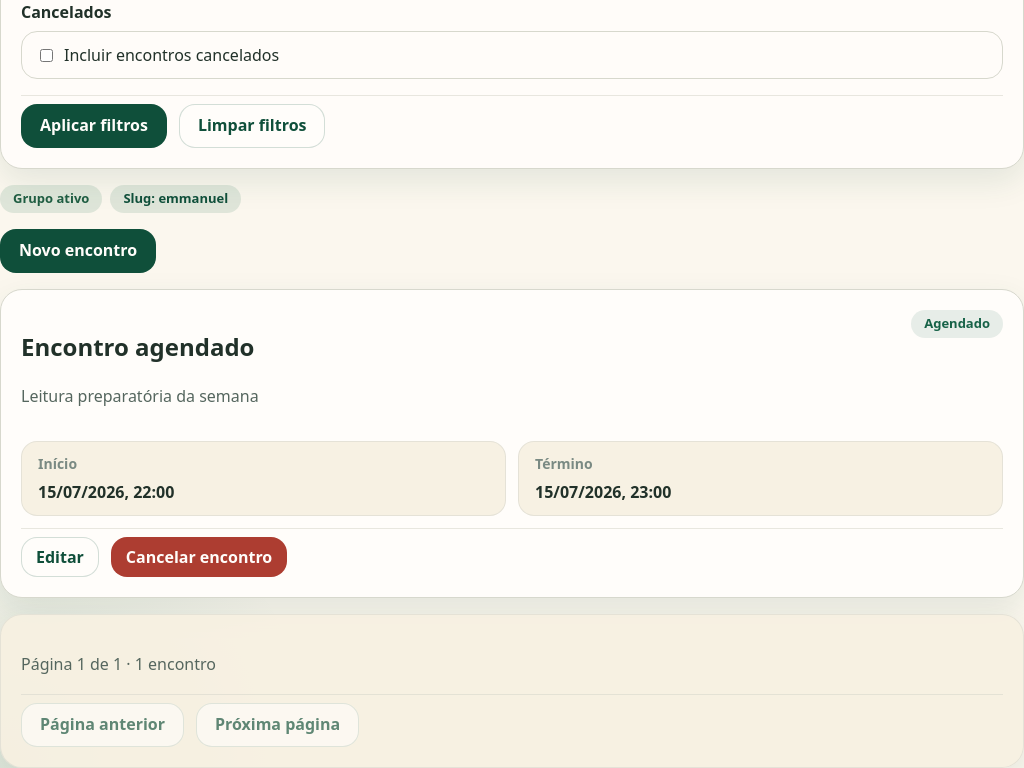
AdminGroupsPage dialog accessibility › dialog de edição restaura foco ao cancelar
(page scrolled)
Expected: the heading "Encontro agendado" is shown, [21,330,259,363]
Click the button "Editar".
click(60, 557)  # box [21,537,99,577]
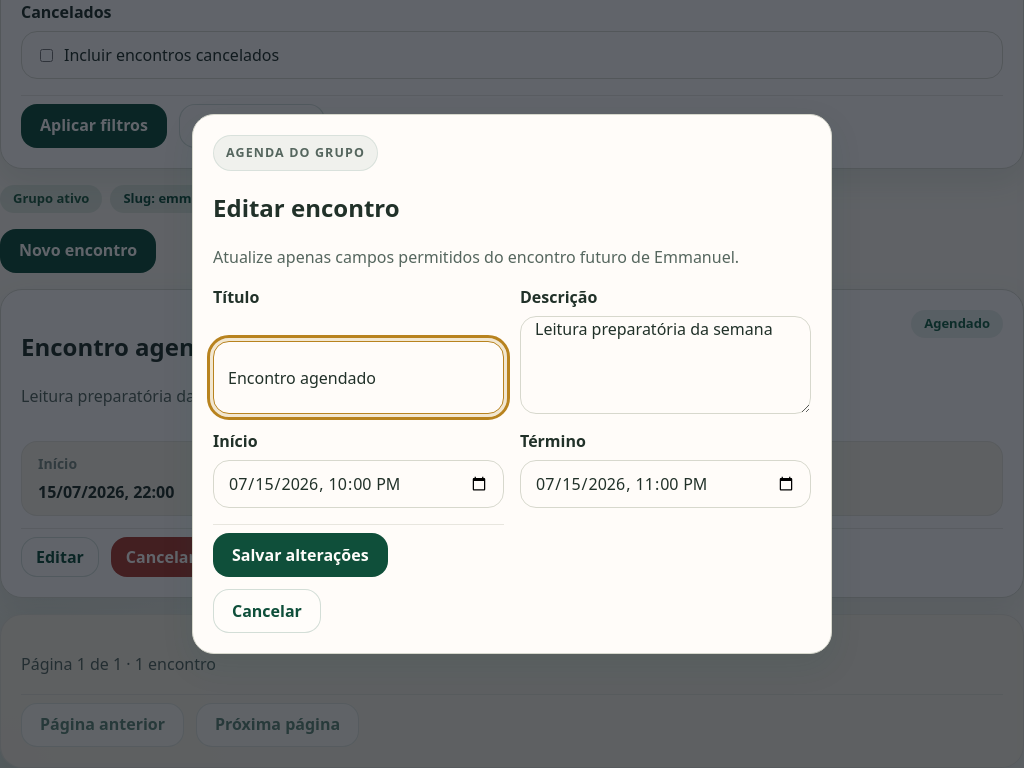
Click the button "Cancelar".
click(267, 611)  # box [213,589,321,633]
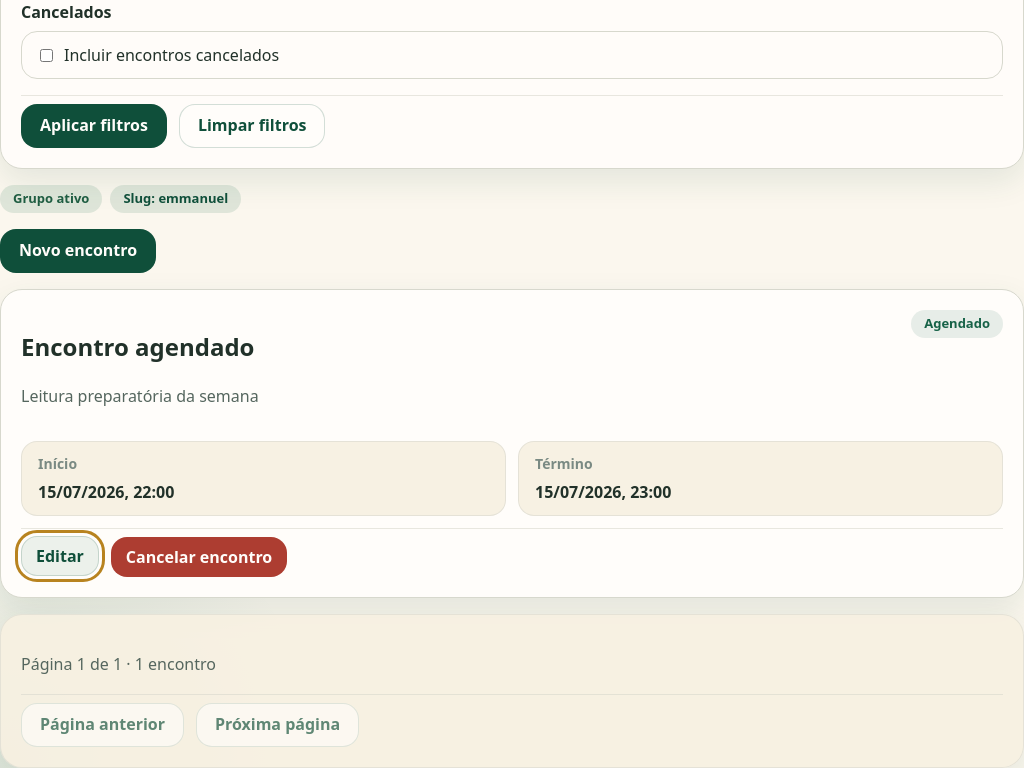
Expected: the heading "Editar encontro" is gone
